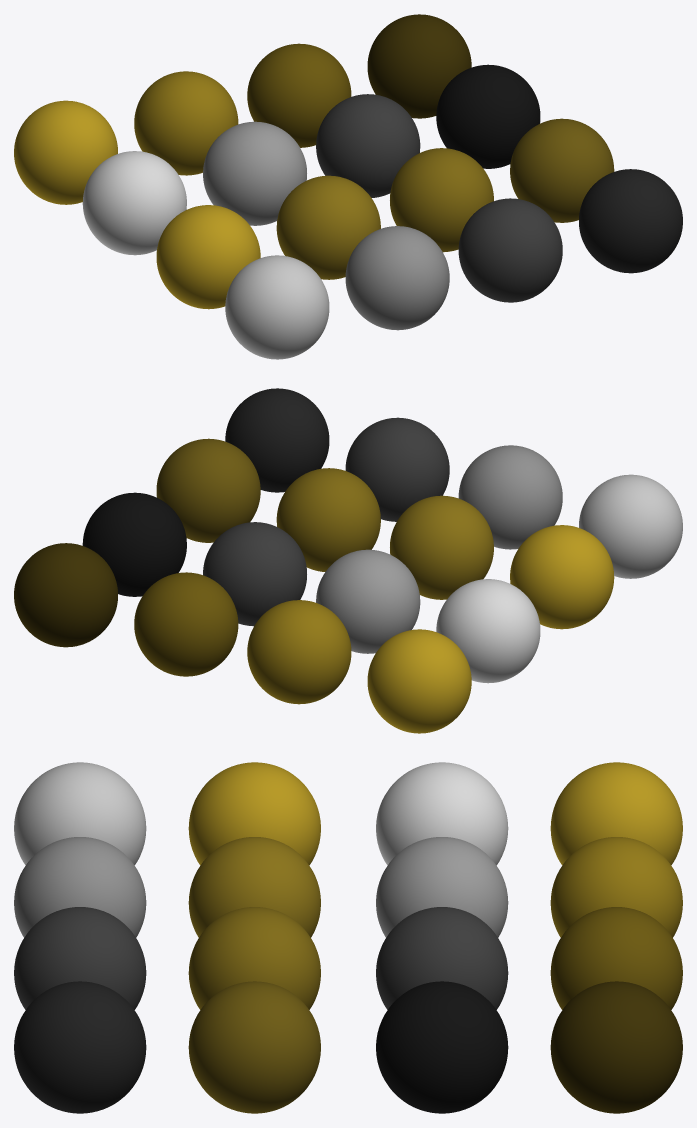
Rendered from pbr_materials_test.glb.
The picture shows the model from 3 angles, top to bottom: view 1: azimuth 30°, elevation 25°; view 2: azimuth 150°, elevation 25°; view 3: azimuth 270°, elevation 25°; orthographic projection. The views are drawn at different scales.
Parts seen in each view (by area): view 1: Sphere012, Sphere004, Sphere008, Sphere016, Sphere002, Sphere014, Sphere006, Sphere003, Sphere001, Sphere010, Sphere005, Sphere013 (+4 smaller); view 2: Sphere009, Sphere001, Sphere005, Sphere013, Sphere003, Sphere015, Sphere007, Sphere002, Sphere004, Sphere011, Sphere008, Sphere016 (+4 smaller); view 3: Sphere014, Sphere015, Sphere013, Sphere016, Sphere001, Sphere004, Sphere002, Sphere003, Sphere009, Sphere012, Sphere010, Sphere011 (+4 smaller).
Part boxes in pixels (<box>): Sphere012: <box>458,198,562,302</box>; Sphere004: <box>225,255,329,359</box>; Sphere008: <box>345,226,449,330</box>; Sphere016: <box>579,169,682,273</box>; Sphere002: <box>82,151,186,255</box>; Sphere014: <box>436,64,540,168</box>; Sphere006: <box>203,121,306,225</box>; Sphere003: <box>156,205,260,309</box>; Sphere001: <box>14,100,117,204</box>; Sphere010: <box>316,94,420,197</box>; Sphere005: <box>134,71,238,175</box>; Sphere013: <box>367,14,471,118</box>; Sphere009: <box>134,572,238,676</box>; Sphere001: <box>367,629,471,733</box>; Sphere005: <box>247,600,351,704</box>; Sphere013: <box>14,543,117,647</box>; Sphere003: <box>510,525,614,629</box>; Sphere015: <box>156,438,260,542</box>; Sphere007: <box>390,495,493,599</box>; Sphere002: <box>436,579,540,683</box>; Sphere004: <box>579,474,682,578</box>; Sphere011: <box>276,468,380,571</box>; Sphere008: <box>458,445,562,549</box>; Sphere016: <box>225,388,329,492</box>; Sphere014: <box>376,981,508,1113</box>; Sphere015: <box>188,981,320,1113</box>; Sphere013: <box>550,981,682,1113</box>; Sphere016: <box>14,981,146,1113</box>; Sphere001: <box>550,762,682,865</box>; Sphere004: <box>14,762,146,865</box>; Sphere002: <box>376,762,508,865</box>; Sphere003: <box>188,762,320,865</box>; Sphere009: <box>550,907,682,1009</box>; Sphere012: <box>14,907,146,1009</box>; Sphere010: <box>376,907,508,1009</box>; Sphere011: <box>188,907,320,1009</box>.
Size of the model in its own units: 1.74 by 0.3543 by 1.79.
